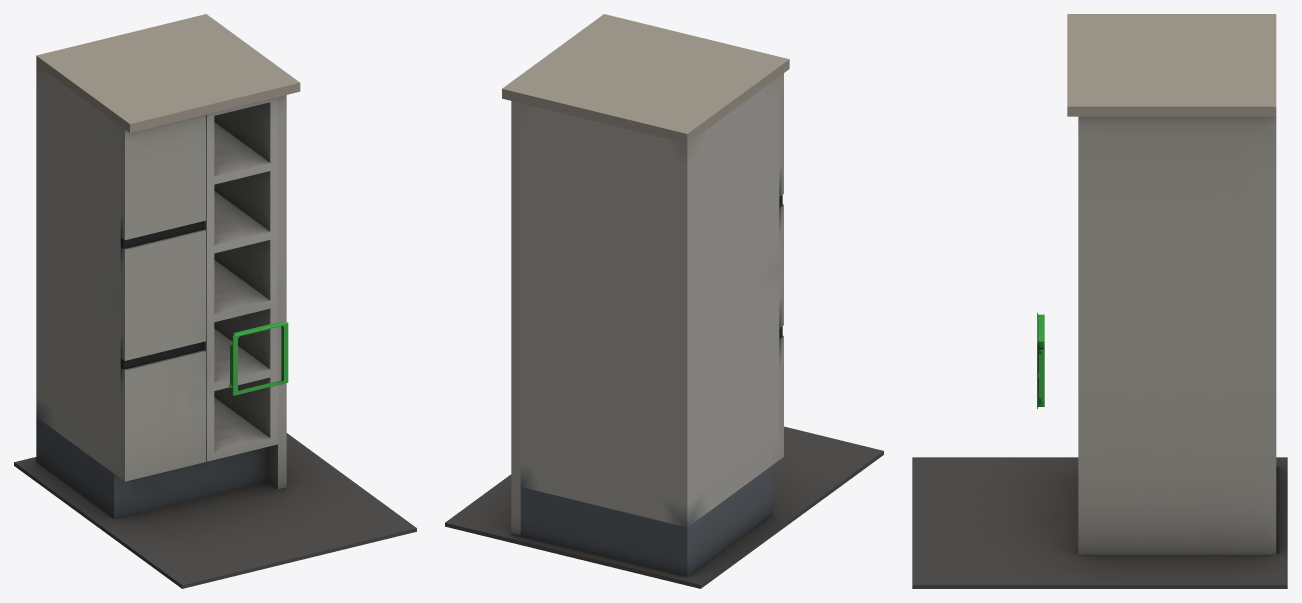
The model's file is cajones_aro_entrando.glb.
3 renders of one model, left to right at view 1: azimuth 30°, elevation 25°; view 2: azimuth 150°, elevation 25°; view 3: azimuth 270°, elevation 25°, orthographic. The views are drawn at different scales.
Parts seen in each view (by area): view 1: cajones_aro_entrando; view 2: cajones_aro_entrando; view 3: cajones_aro_entrando.
Part boxes in pixels (x1,y1,x2,y2): cajones_aro_entrando: [14, 14, 416, 588]; cajones_aro_entrando: [445, 14, 883, 588]; cajones_aro_entrando: [912, 14, 1287, 588].
Size of the model in its own units: 0.546 by 0.911 by 0.678.
